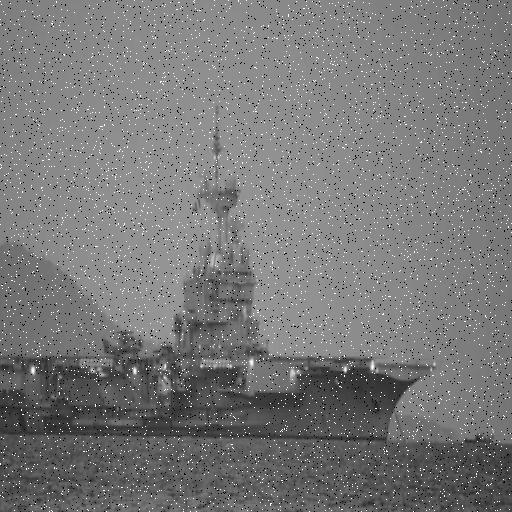Portanaves: (1, 92, 444, 445)
